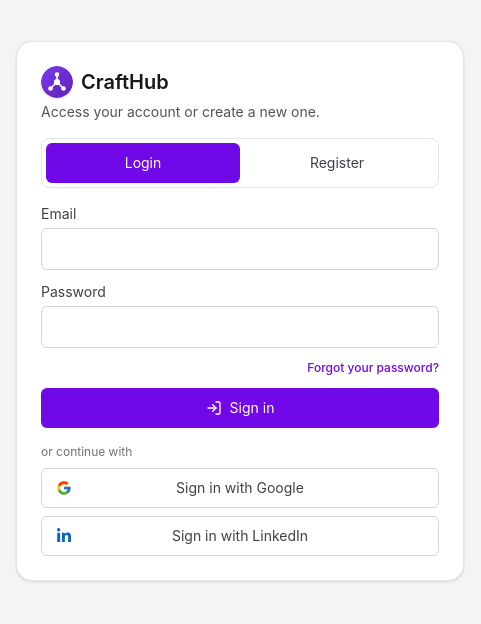
Test: signing in with an unverified address › still shows an ordinary wrong-password failure as an error
Type "ada@example.com" into the field labelled "Email".
click(240, 249); type("ada@example.com")  # box [41, 228, 439, 270]
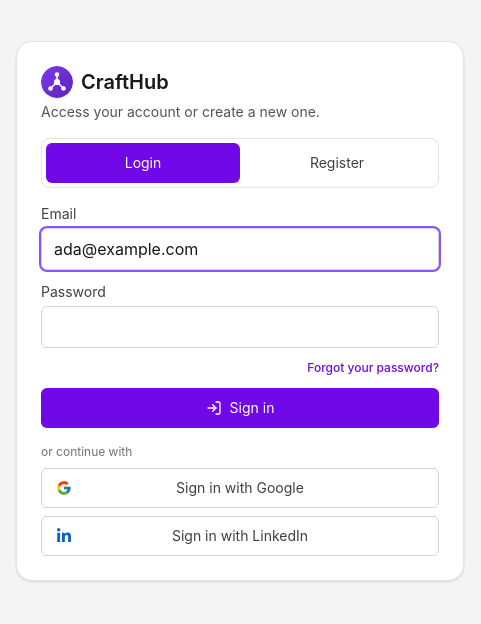
Type "wrongpass" into the password field labelled "Password".
click(240, 327); type("wrongpass")  # box [41, 306, 439, 348]
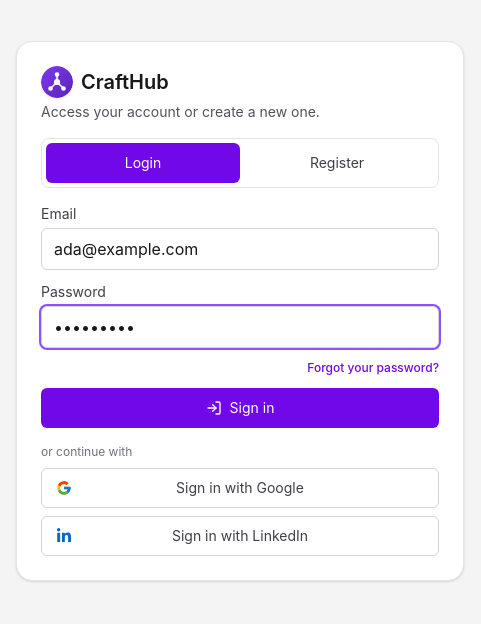
Click the button "Sign in".
click(240, 408)  # box [41, 388, 439, 428]
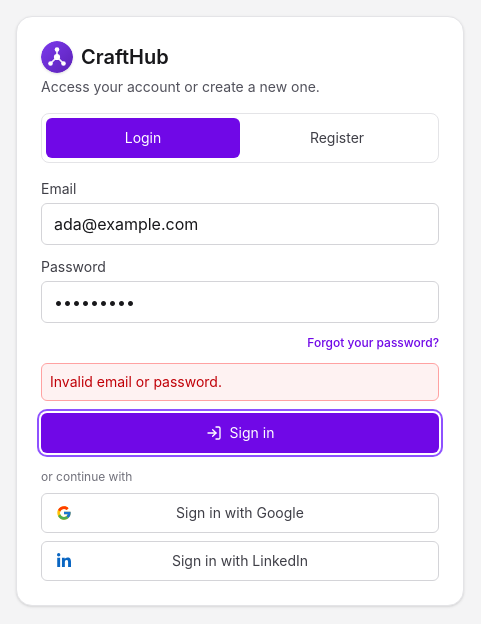
Expected: the message reads "Invalid email or password.", [50, 373, 222, 390]
